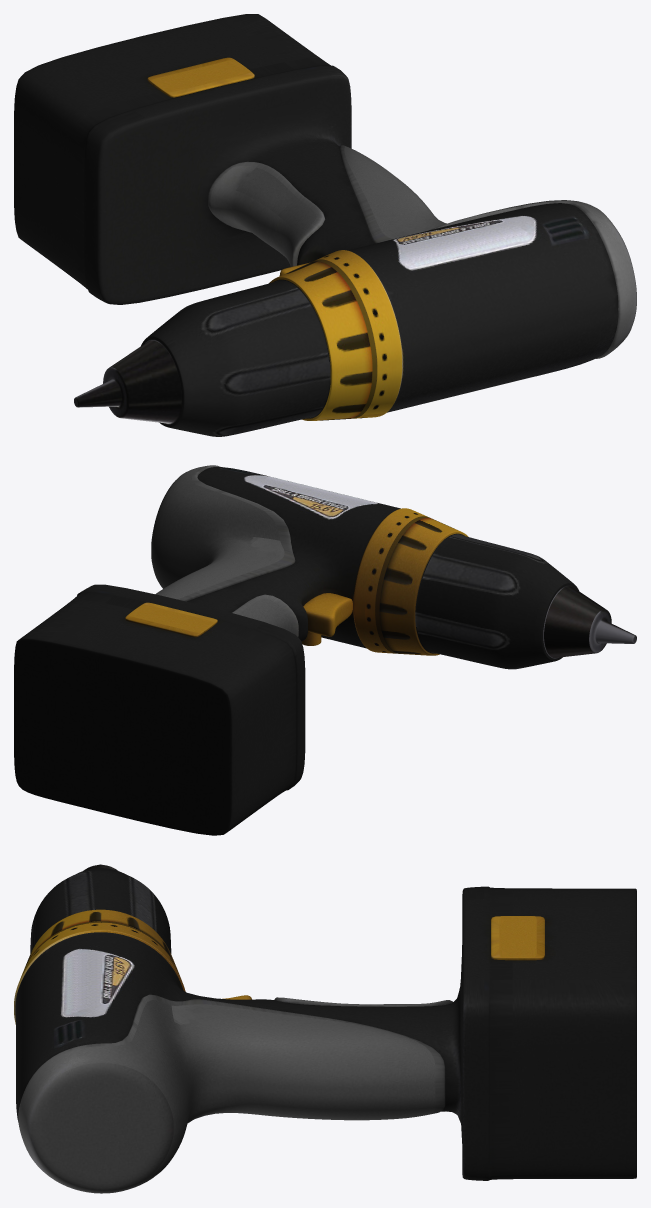
The model's file is 10108_Cordless Drill_v2_Iteration2.obj.
3 renders of one model, top to bottom at view 1: azimuth 30°, elevation 25°; view 2: azimuth 150°, elevation 25°; view 3: azimuth 270°, elevation 25°, orthographic. The views are drawn at different scales.
Parts seen in each view (by area): view 1: 10108_Cordless_Drill_v2; view 2: 10108_Cordless_Drill_v2; view 3: 10108_Cordless_Drill_v2.
Boxes of the visible parts, x1=… form: 10108_Cordless_Drill_v2: x1=14, y1=14, x2=636, y2=436; 10108_Cordless_Drill_v2: x1=14, y1=465, x2=636, y2=835; 10108_Cordless_Drill_v2: x1=14, y1=864, x2=636, y2=1193.
Bounding box in the file's own units: 17.07 × 5.86 × 17.23.
Materials: 1 (1 with a texture image).
